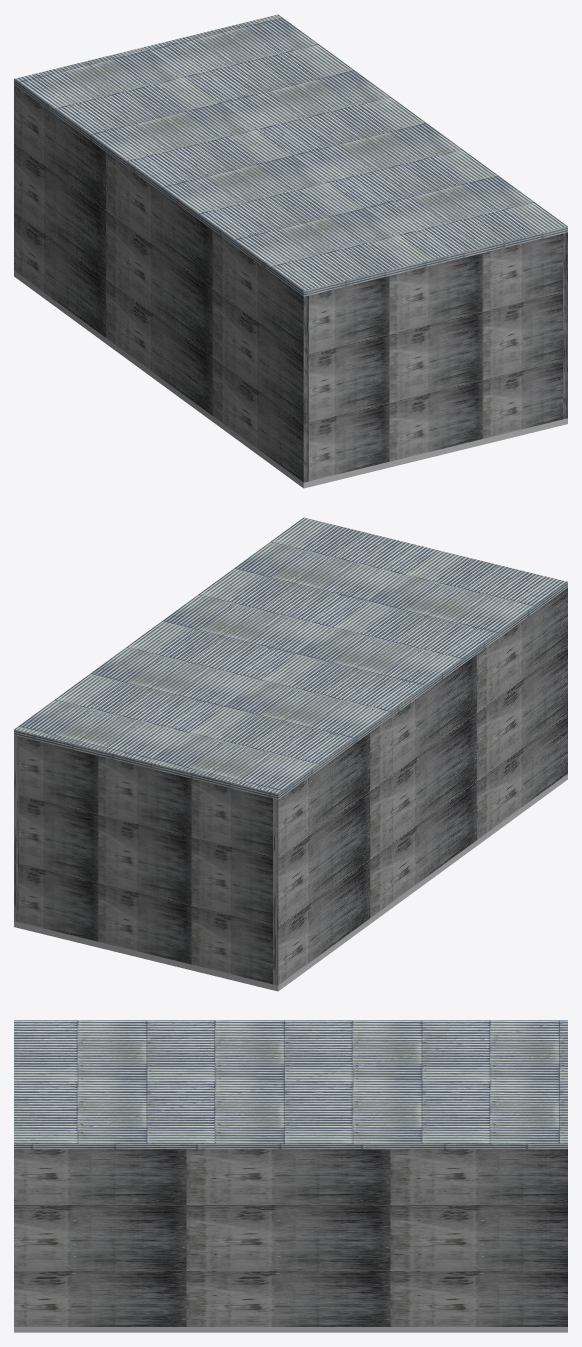
The model's file is Room.fbx.
3 renders of one model, top to bottom at view 1: azimuth 30°, elevation 25°; view 2: azimuth 150°, elevation 25°; view 3: azimuth 270°, elevation 25°, orthographic. The views are drawn at different scales.
Parts seen in each view (by area): view 1: Cube.005, Cube.002, Cube.003, Cube, Cube.001; view 2: Cube.005, Cube.002, Cube.004, Cube, Cube.001; view 3: Cube.001, Cube.005, Cube.
Part boxes in pixels (x1,y1,x2,y2): Cube.005: (14,14,567,296); Cube.002: (14,85,308,482); Cube.003: (309,233,562,481); Cube: (14,271,567,488); Cube.001: (563,232,567,419); Cube.005: (14,517,567,799); Cube.002: (273,588,567,985); Cube.004: (19,736,272,984); Cube: (14,774,567,991); Cube.001: (14,735,18,922); Cube.001: (14,1149,567,1326); Cube.005: (14,1020,567,1149); Cube: (14,1327,567,1332).
Size of the model in its own units: 1813 by 1295 by 3443.
